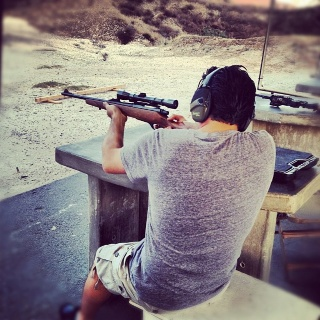rifle: (61, 86, 185, 133), (252, 88, 320, 117)
